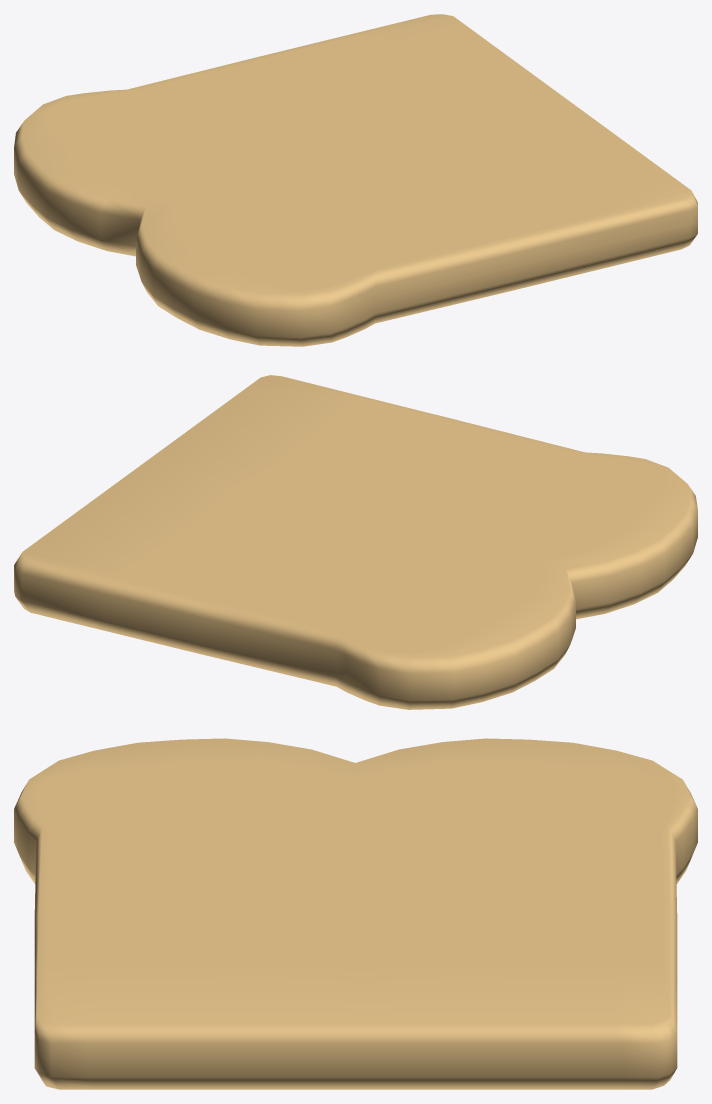
Rendered from BreadSlice.fbx.
3 renders of one model, top to bottom at view 1: azimuth 30°, elevation 25°; view 2: azimuth 150°, elevation 25°; view 3: azimuth 270°, elevation 25°, orthographic. The views are drawn at different scales.
Visible parts, largest first — view 1: BreadSlice; view 2: BreadSlice; view 3: BreadSlice.
Part boxes in pixels (x1,y1,x2,y2): BreadSlice: (14,14,697,346); BreadSlice: (14,375,697,709); BreadSlice: (14,738,697,1089).
Size of the model in its own units: 51.74 by 5.4 by 51.08.
